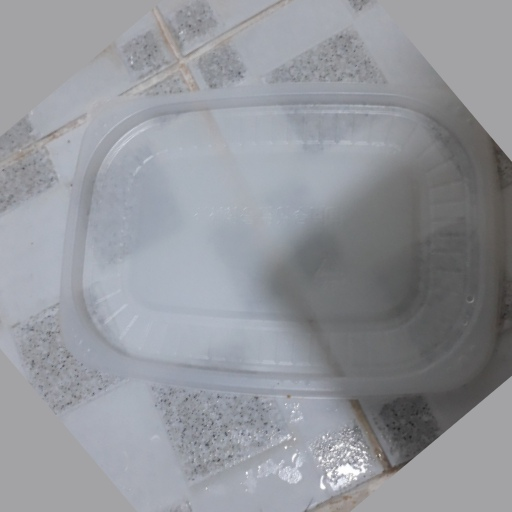Plastic_4: (61, 84, 502, 397)
